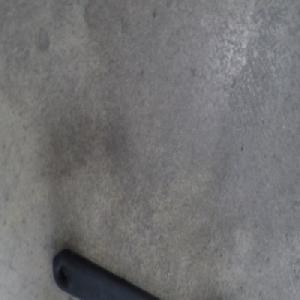AdjustableWrench: (54, 248, 162, 299)
